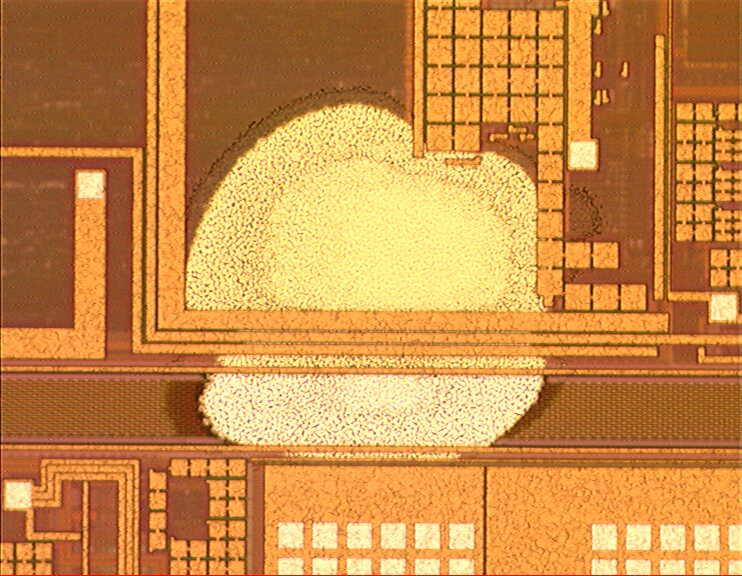BLOCK ETCH: (157, 85, 624, 488)
